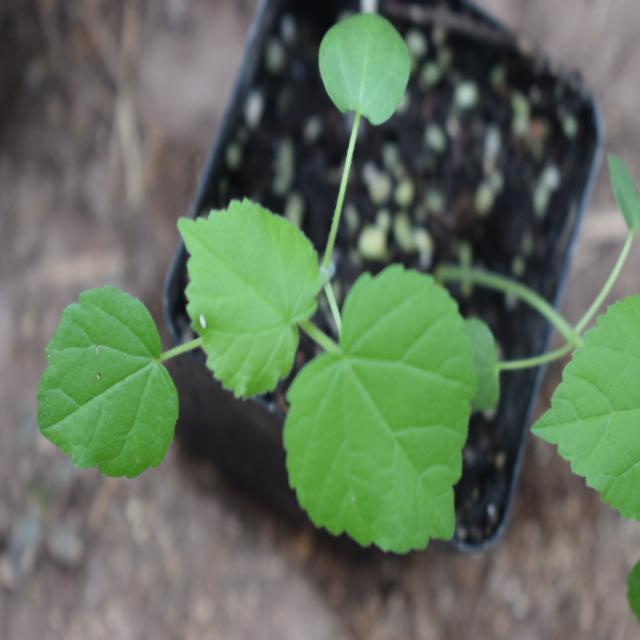abutilon theophrasti: (41, 75, 478, 557)
